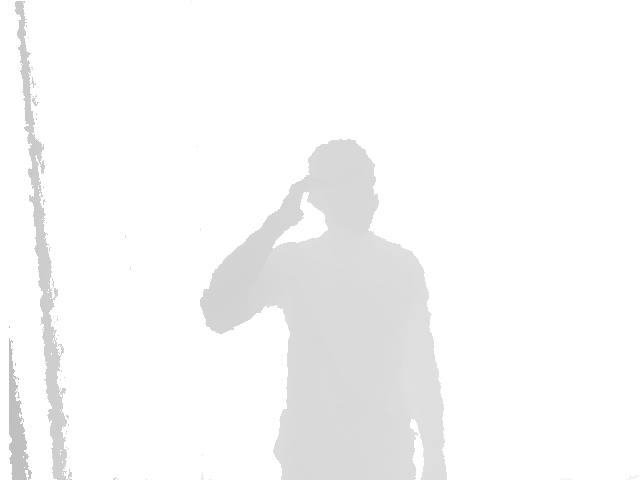head: (307, 139, 380, 240)
person: (199, 140, 451, 480)
